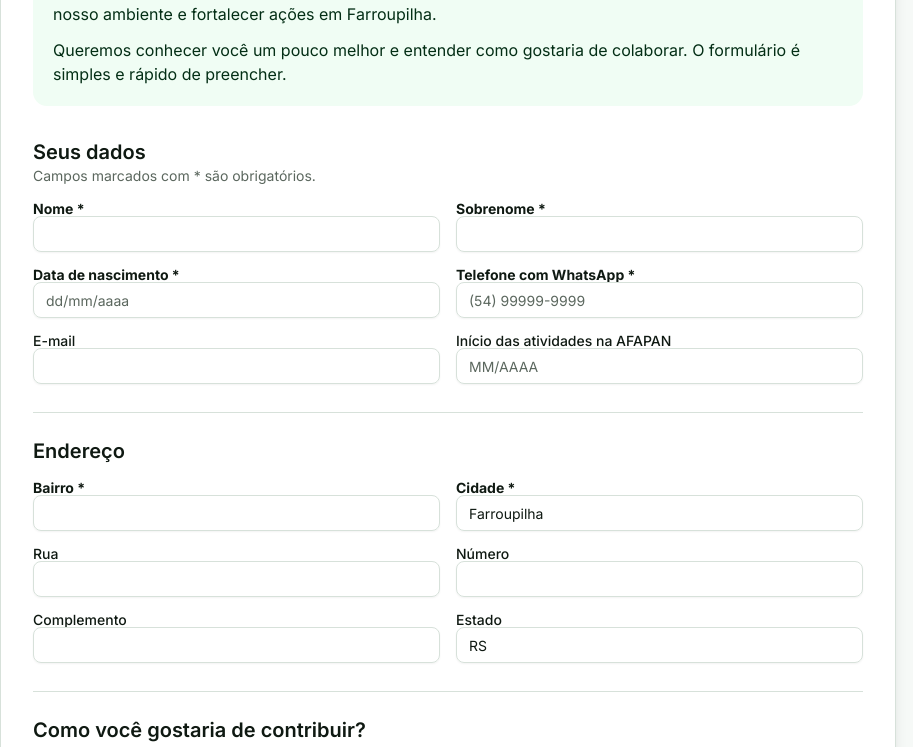
Test: formulário público de voluntários › valida o e-mail preenchido ao sair do campo e aceita o campo vazio
(page scrolled)
Type "karine@afapan" into the field labelled "E-mail". click: (236, 366)
box: [33, 348, 440, 384]
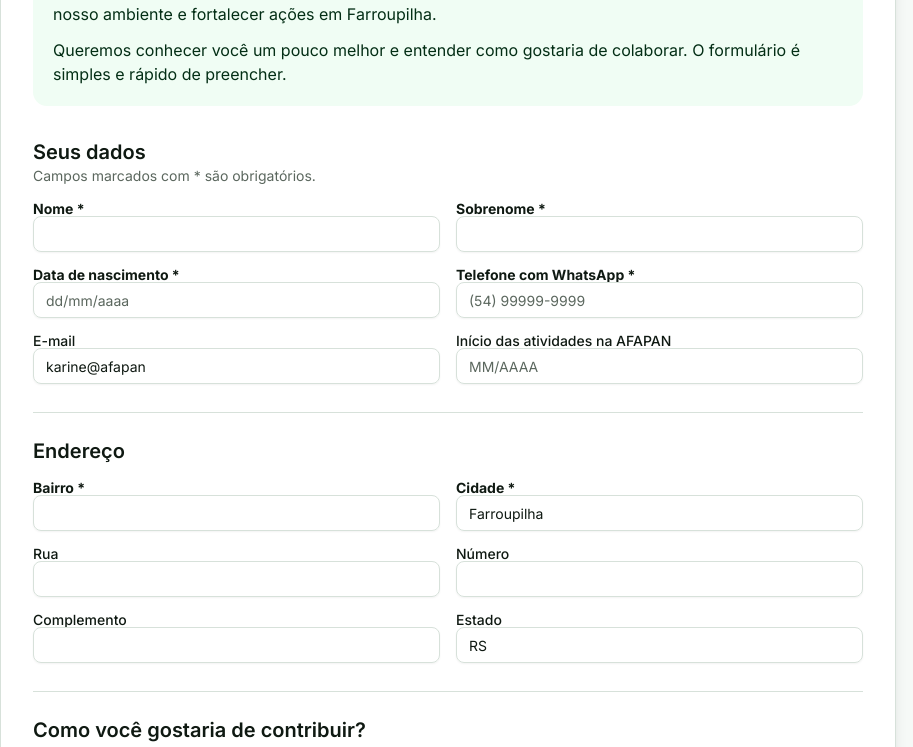
Leave the field labelled "E-mail", box [33, 348, 440, 384]
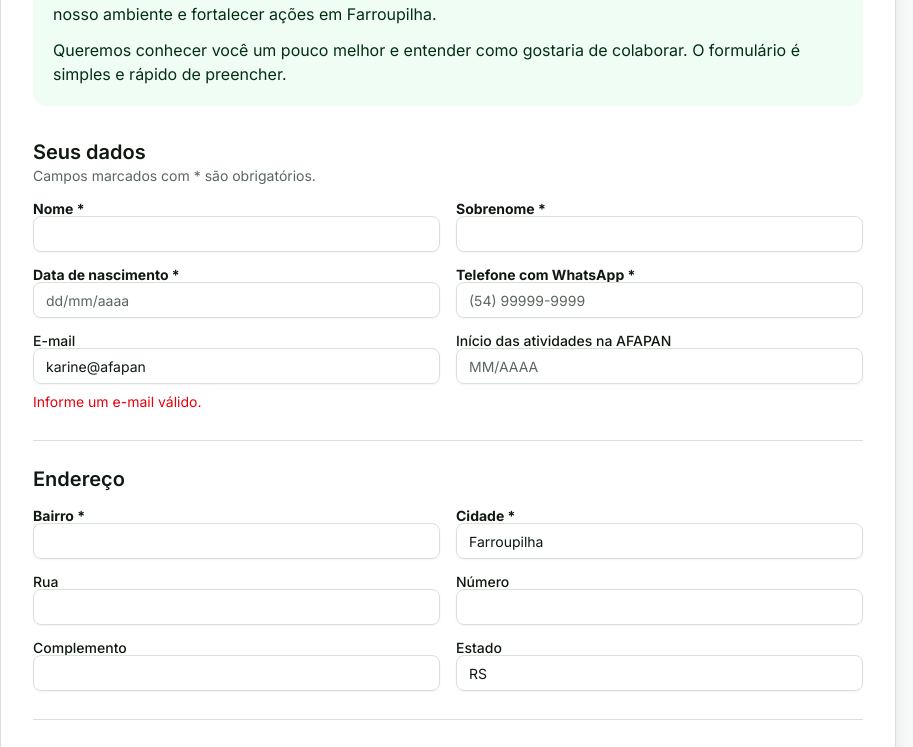
expect the message reads "Informe um e-mail válido.": met, box [33, 393, 201, 410]
Replace the text in the field labelled "E-mail" with "karine@afapan.com.br". click: (236, 366)
box: [33, 348, 440, 384]
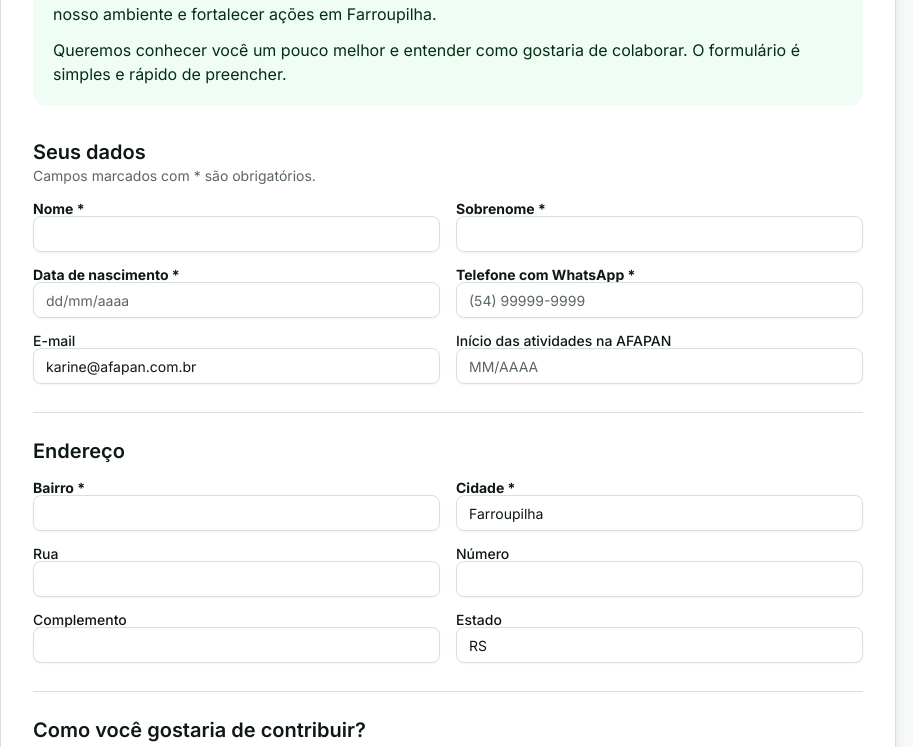
expect the text "Informe um e-mail válido." is gone: met
